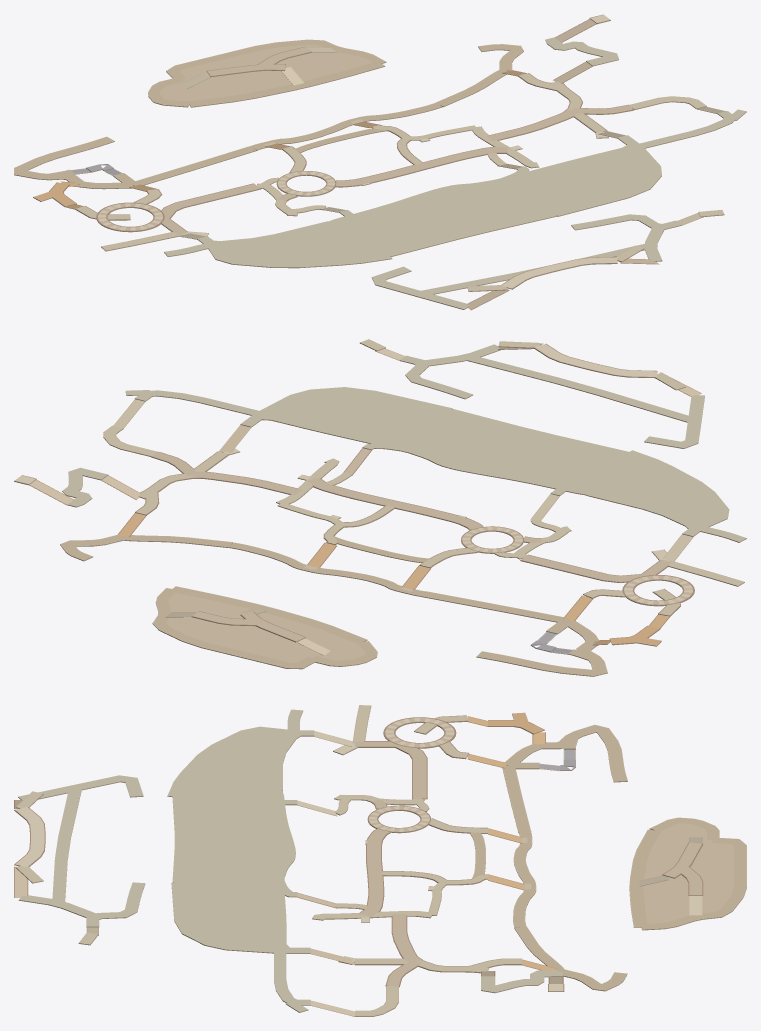
The picture shows the model from 3 angles, top to bottom: view 1: azimuth 30°, elevation 25°; view 2: azimuth 150°, elevation 25°; view 3: azimuth 270°, elevation 25°; orthographic projection. The views are drawn at different scales.
Visible parts, largest first — view 1: L2 Highlands and Creek Banks, L0 Crescent Shore Walk, L1 Town Loop and Wings, L3 Dual Scenic Summits, S-L1 Islet Echo Terrace, L0.5 Boatyard Quay Walk; view 2: L2 Highlands and Creek Banks, L0 Crescent Shore Walk, L1 Town Loop and Wings, L3 Dual Scenic Summits, S-L1 Islet Echo Terrace, L0.5 Boatyard Quay Walk; view 3: L2 Highlands and Creek Banks, L0 Crescent Shore Walk, L1 Town Loop and Wings, L3 Dual Scenic Summits, S-L1 Islet Echo Terrace, L0.5 Boatyard Quay Walk.
Boxes of the visible parts, <box> form: L2 Highlands and Creek Banks: <box>164,37,746,309</box>; L0 Crescent Shore Walk: <box>14,39,523,189</box>; L1 Town Loop and Wings: <box>75,73,706,251</box>; L3 Dual Scenic Summits: <box>467,14,644,291</box>; S-L1 Islet Echo Terrace: <box>206,47,312,77</box>; L0.5 Boatyard Quay Walk: <box>33,182,76,206</box>; L2 Highlands and Creek Banks: <box>62,344,746,542</box>; L0 Crescent Shore Walk: <box>60,534,607,676</box>; L1 Town Loop and Wings: <box>103,425,744,616</box>; L3 Dual Scenic Summits: <box>14,341,685,485</box>; S-L1 Islet Echo Terrace: <box>191,611,305,642</box>; L0.5 Boatyard Quay Walk: <box>609,625,661,646</box>; L2 Highlands and Creek Banks: <box>18,709,563,1012</box>; L0 Crescent Shore Walk: <box>502,724,746,991</box>; L1 Town Loop and Wings: <box>312,705,521,1016</box>; L3 Dual Scenic Summits: <box>14,791,564,991</box>; S-L1 Islet Echo Terrace: <box>662,842,703,895</box>; L0.5 Boatyard Quay Walk: <box>488,712,544,734</box>.
Size of the model in its own units: 111 by 5.7 by 108.
